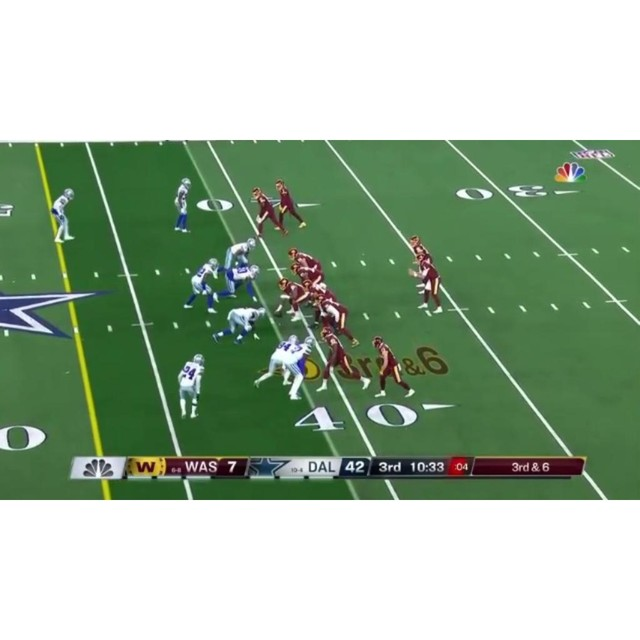american-football-player: (319, 325, 369, 391), (372, 335, 415, 398), (254, 334, 301, 390), (313, 291, 359, 346), (212, 306, 266, 345), (183, 256, 221, 311), (283, 337, 314, 401), (251, 186, 288, 237), (214, 264, 261, 303), (413, 254, 443, 315), (178, 354, 205, 420), (275, 179, 307, 230), (274, 278, 309, 320), (51, 189, 76, 243), (222, 237, 257, 273), (173, 178, 192, 233), (291, 263, 322, 288), (289, 248, 321, 271)
